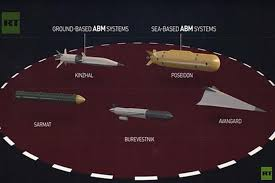ten_lua: (143, 47, 219, 77), (100, 102, 175, 124), (54, 48, 126, 69), (10, 89, 89, 106)
